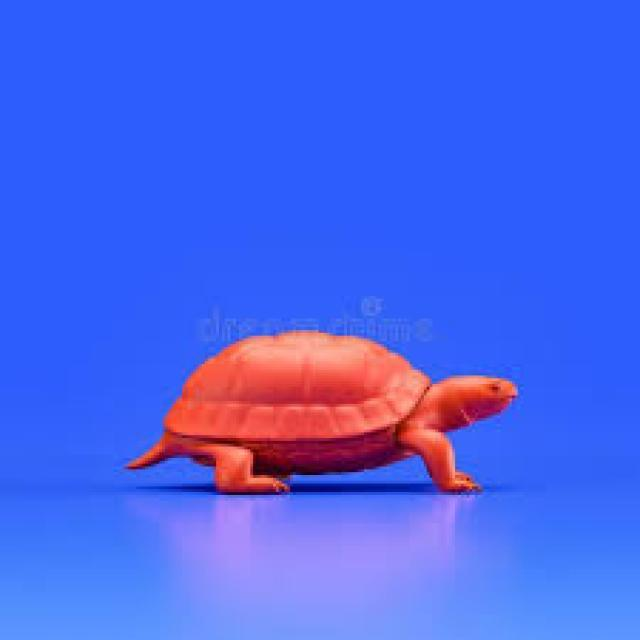hard-toy: (127, 332, 516, 494)
